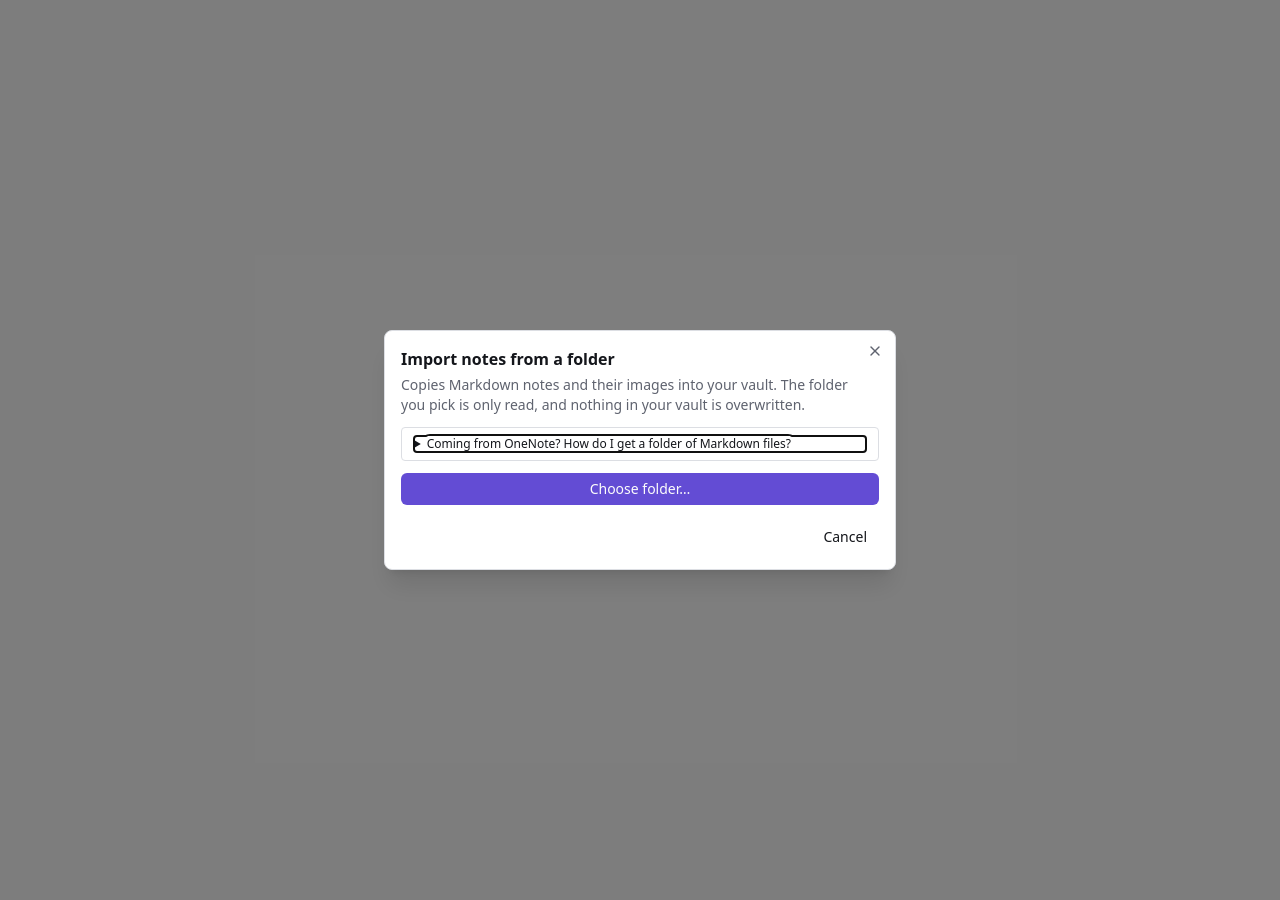
Test: ImportDialog › scans the chosen folder and previews what will happen
Click the button "Choose folder…" at (640, 489), box [401,473,879,505]
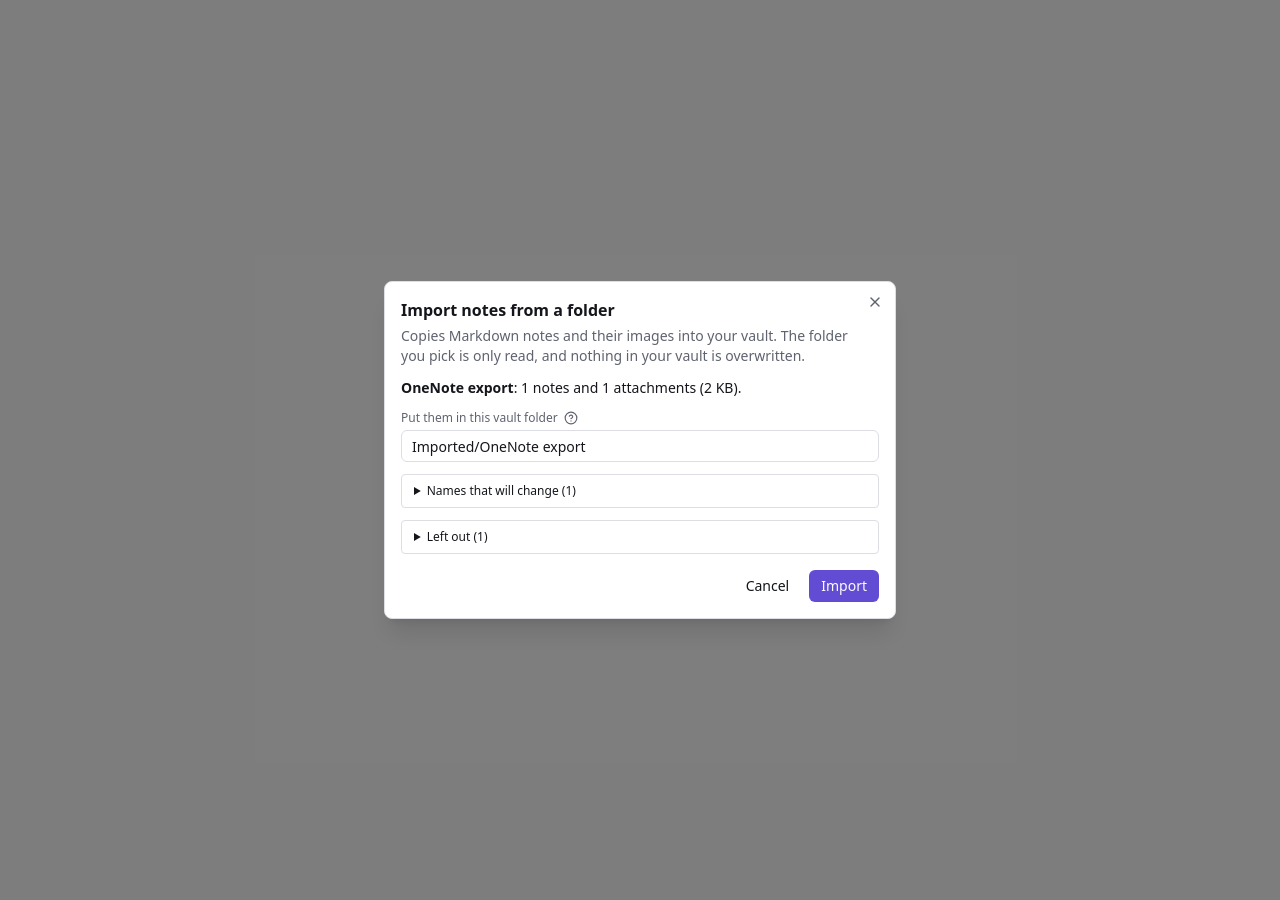
Check: the text "OneNote export: 1 notes and 1 attachments (2 KB)." is shown, box [401,378,741,397]
Check: the field labelled "Put them in this vault folder" holds "Imported/OneNote export", box [401,430,879,462]
Check: the heading "Names that will change (1)" is shown, box [427,482,576,499]
